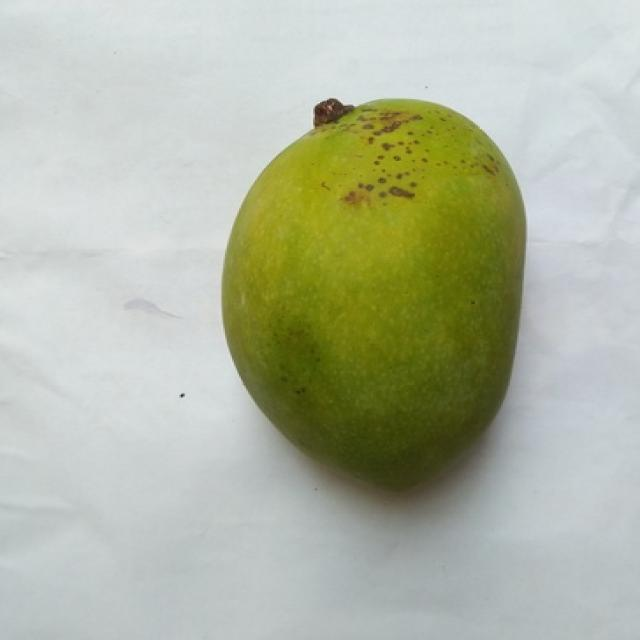Mango: (225, 99, 524, 490)
